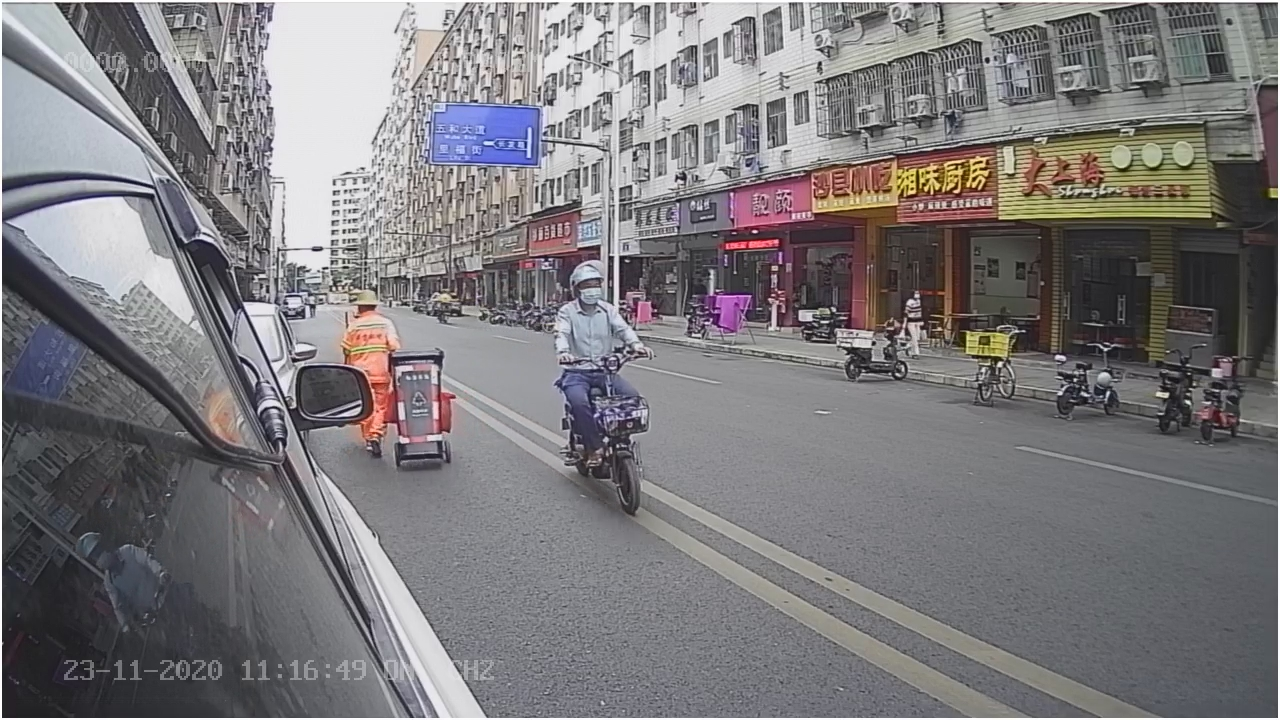person: (544, 257, 644, 352)
